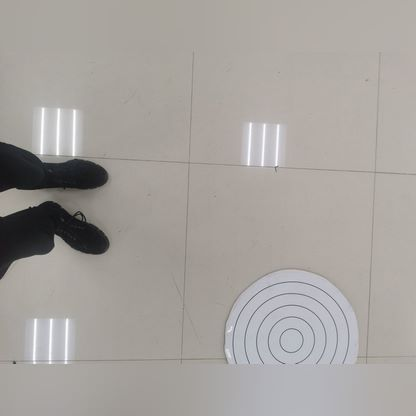circle: (229, 275, 353, 375)
